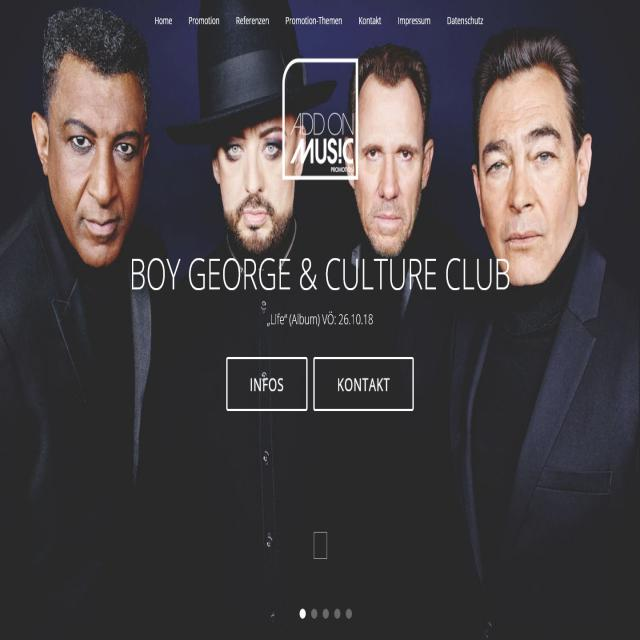button: (314, 358, 412, 410), (227, 358, 307, 408), (279, 3, 347, 40), (440, 3, 490, 41), (394, 3, 436, 42), (180, 5, 225, 38), (350, 3, 390, 40), (231, 4, 273, 39), (149, 6, 177, 38)
heading: (130, 250, 510, 292), (290, 110, 354, 166)
image: (2, 0, 640, 640), (282, 58, 358, 182)
text: (267, 308, 375, 328)
